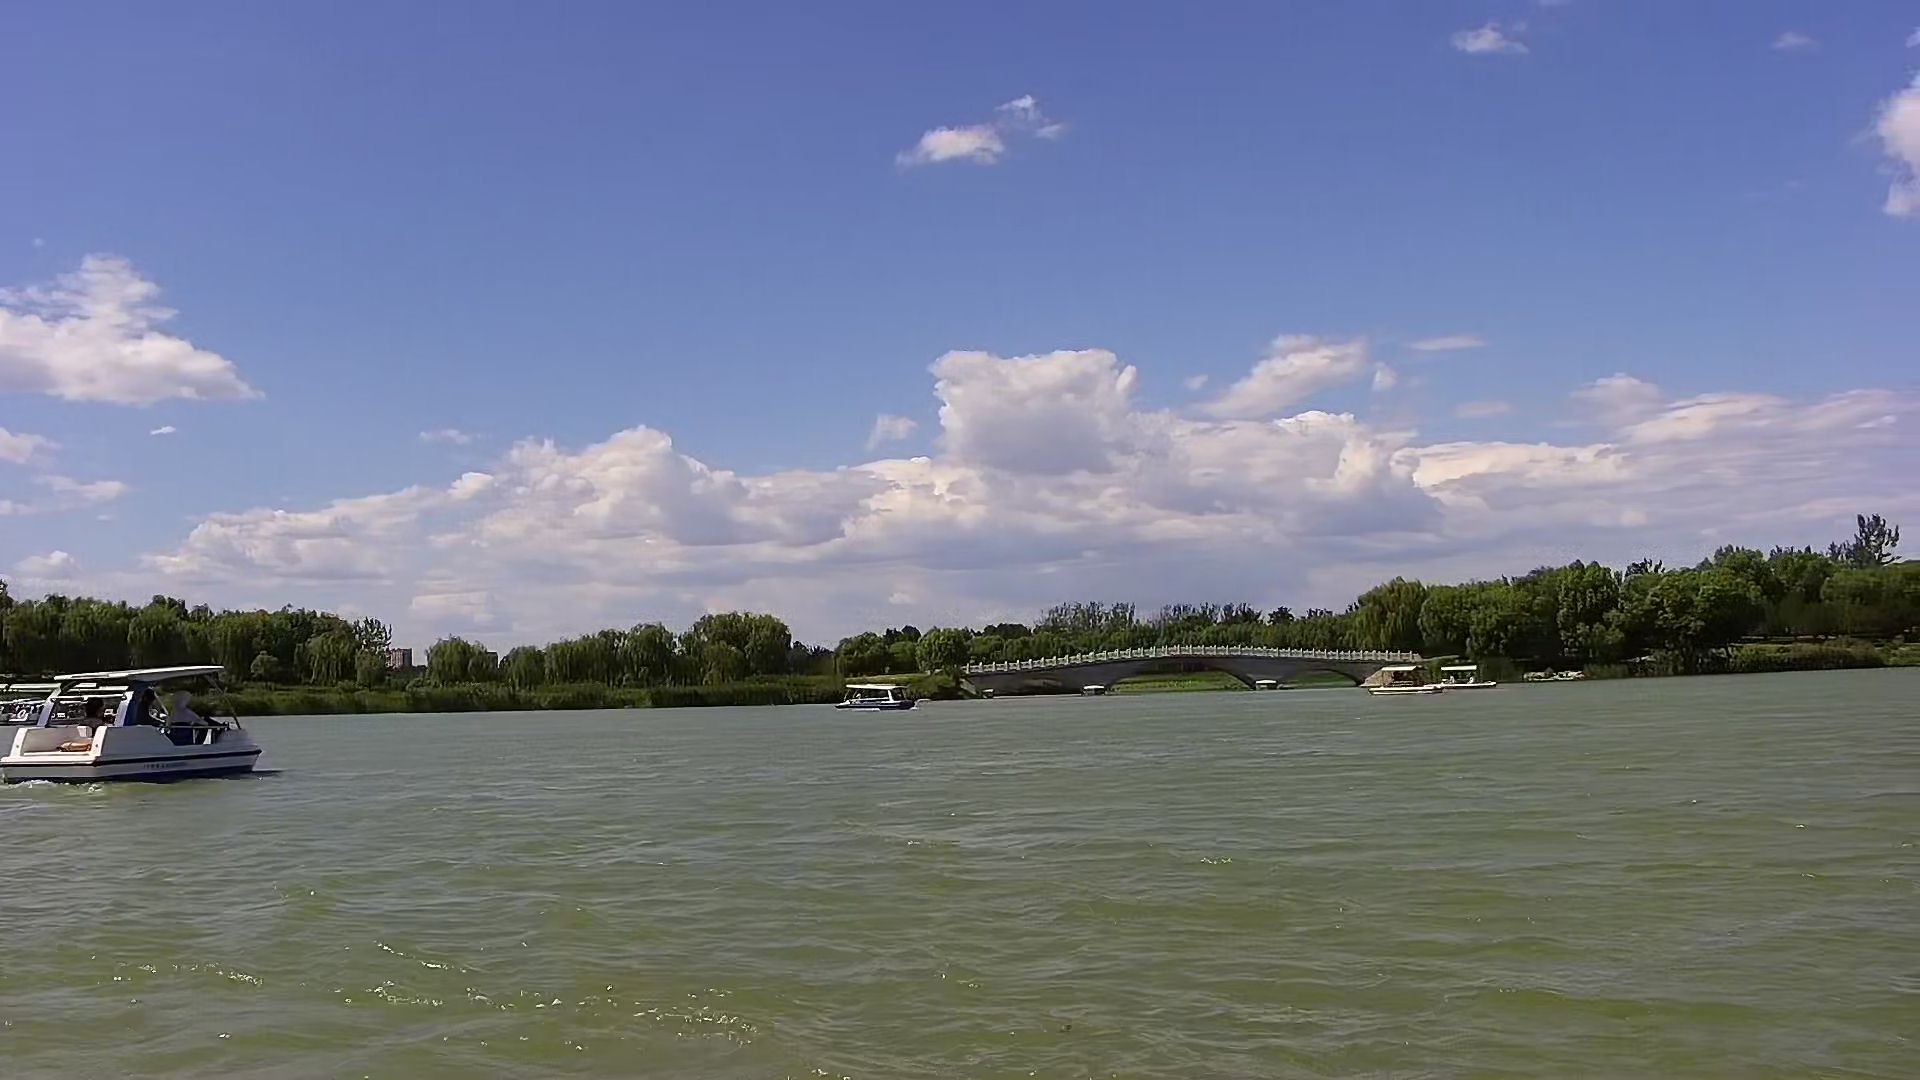boat: (3, 650, 277, 802), (823, 674, 932, 719), (1366, 649, 1436, 717), (1443, 651, 1506, 699)
bridge: (953, 637, 1356, 700)
